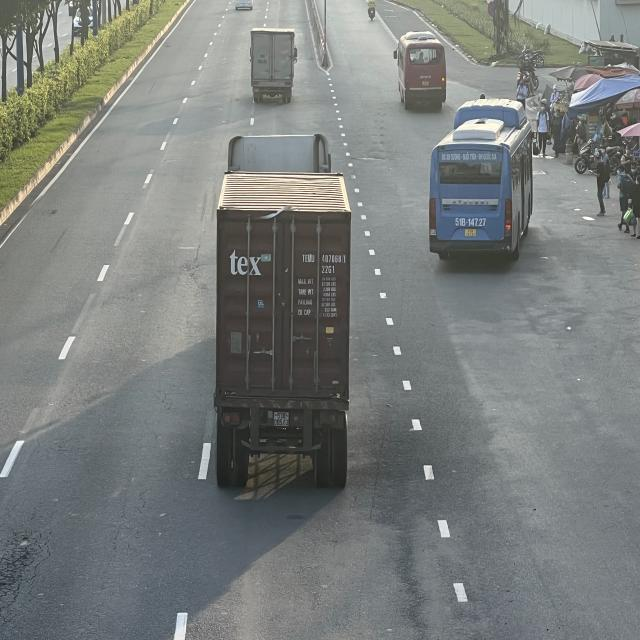coach: (430, 102, 537, 264), (394, 33, 448, 110)
container: (217, 131, 354, 491)
truck: (250, 28, 298, 106)
